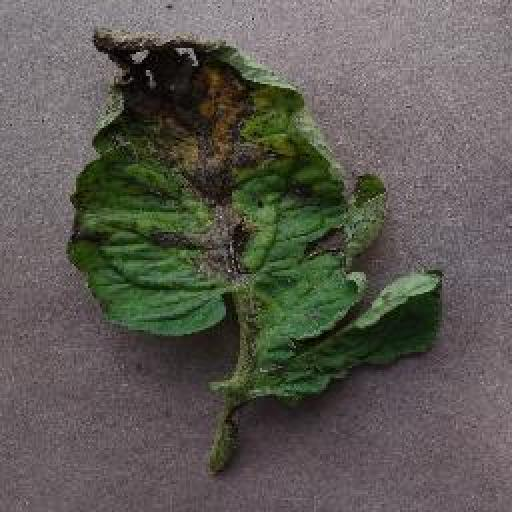Early Blight: (68, 31, 447, 408)
